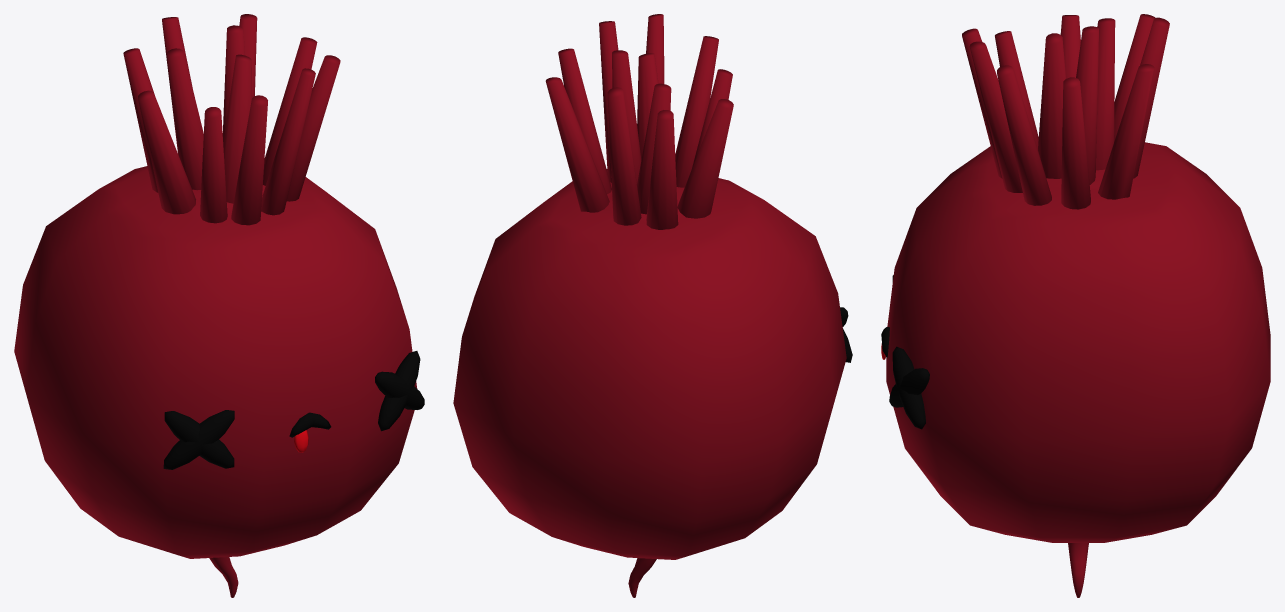
The model's file is Beetroot(dead).fbx.
3 renders of one model, left to right at view 1: azimuth 30°, elevation 25°; view 2: azimuth 150°, elevation 25°; view 3: azimuth 270°, elevation 25°, orthographic. The views are drawn at different scales.
Parts seen in each view (by area): view 1: Beetroot(dead); view 2: Beetroot(dead); view 3: Beetroot(dead).
Boxes of the visible parts, <box> form: Beetroot(dead): <box>14,14,424,597</box>; Beetroot(dead): <box>453,14,852,597</box>; Beetroot(dead): <box>881,14,1270,597</box>.
Size of the model in its own units: 117 by 194 by 119.
